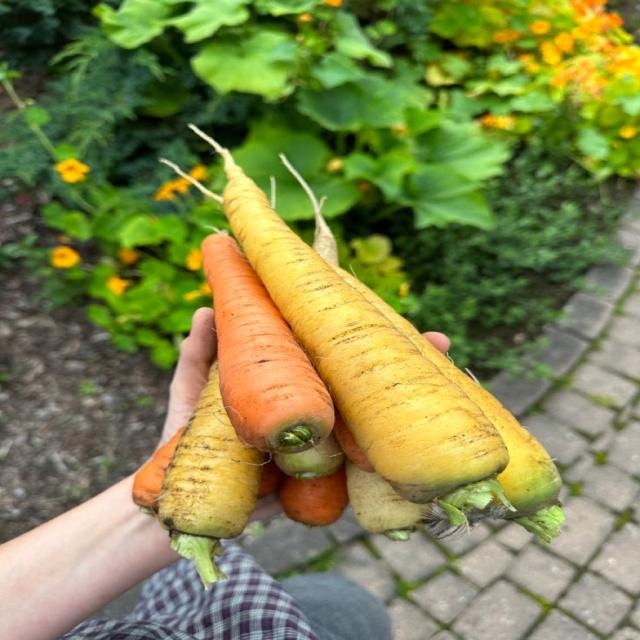carrot: (218, 146, 507, 510), (202, 233, 333, 452), (429, 351, 563, 542), (434, 355, 564, 542), (158, 362, 264, 587), (346, 462, 430, 540), (133, 428, 185, 512), (279, 466, 348, 526), (274, 427, 344, 478), (334, 412, 374, 472), (259, 460, 282, 497)
